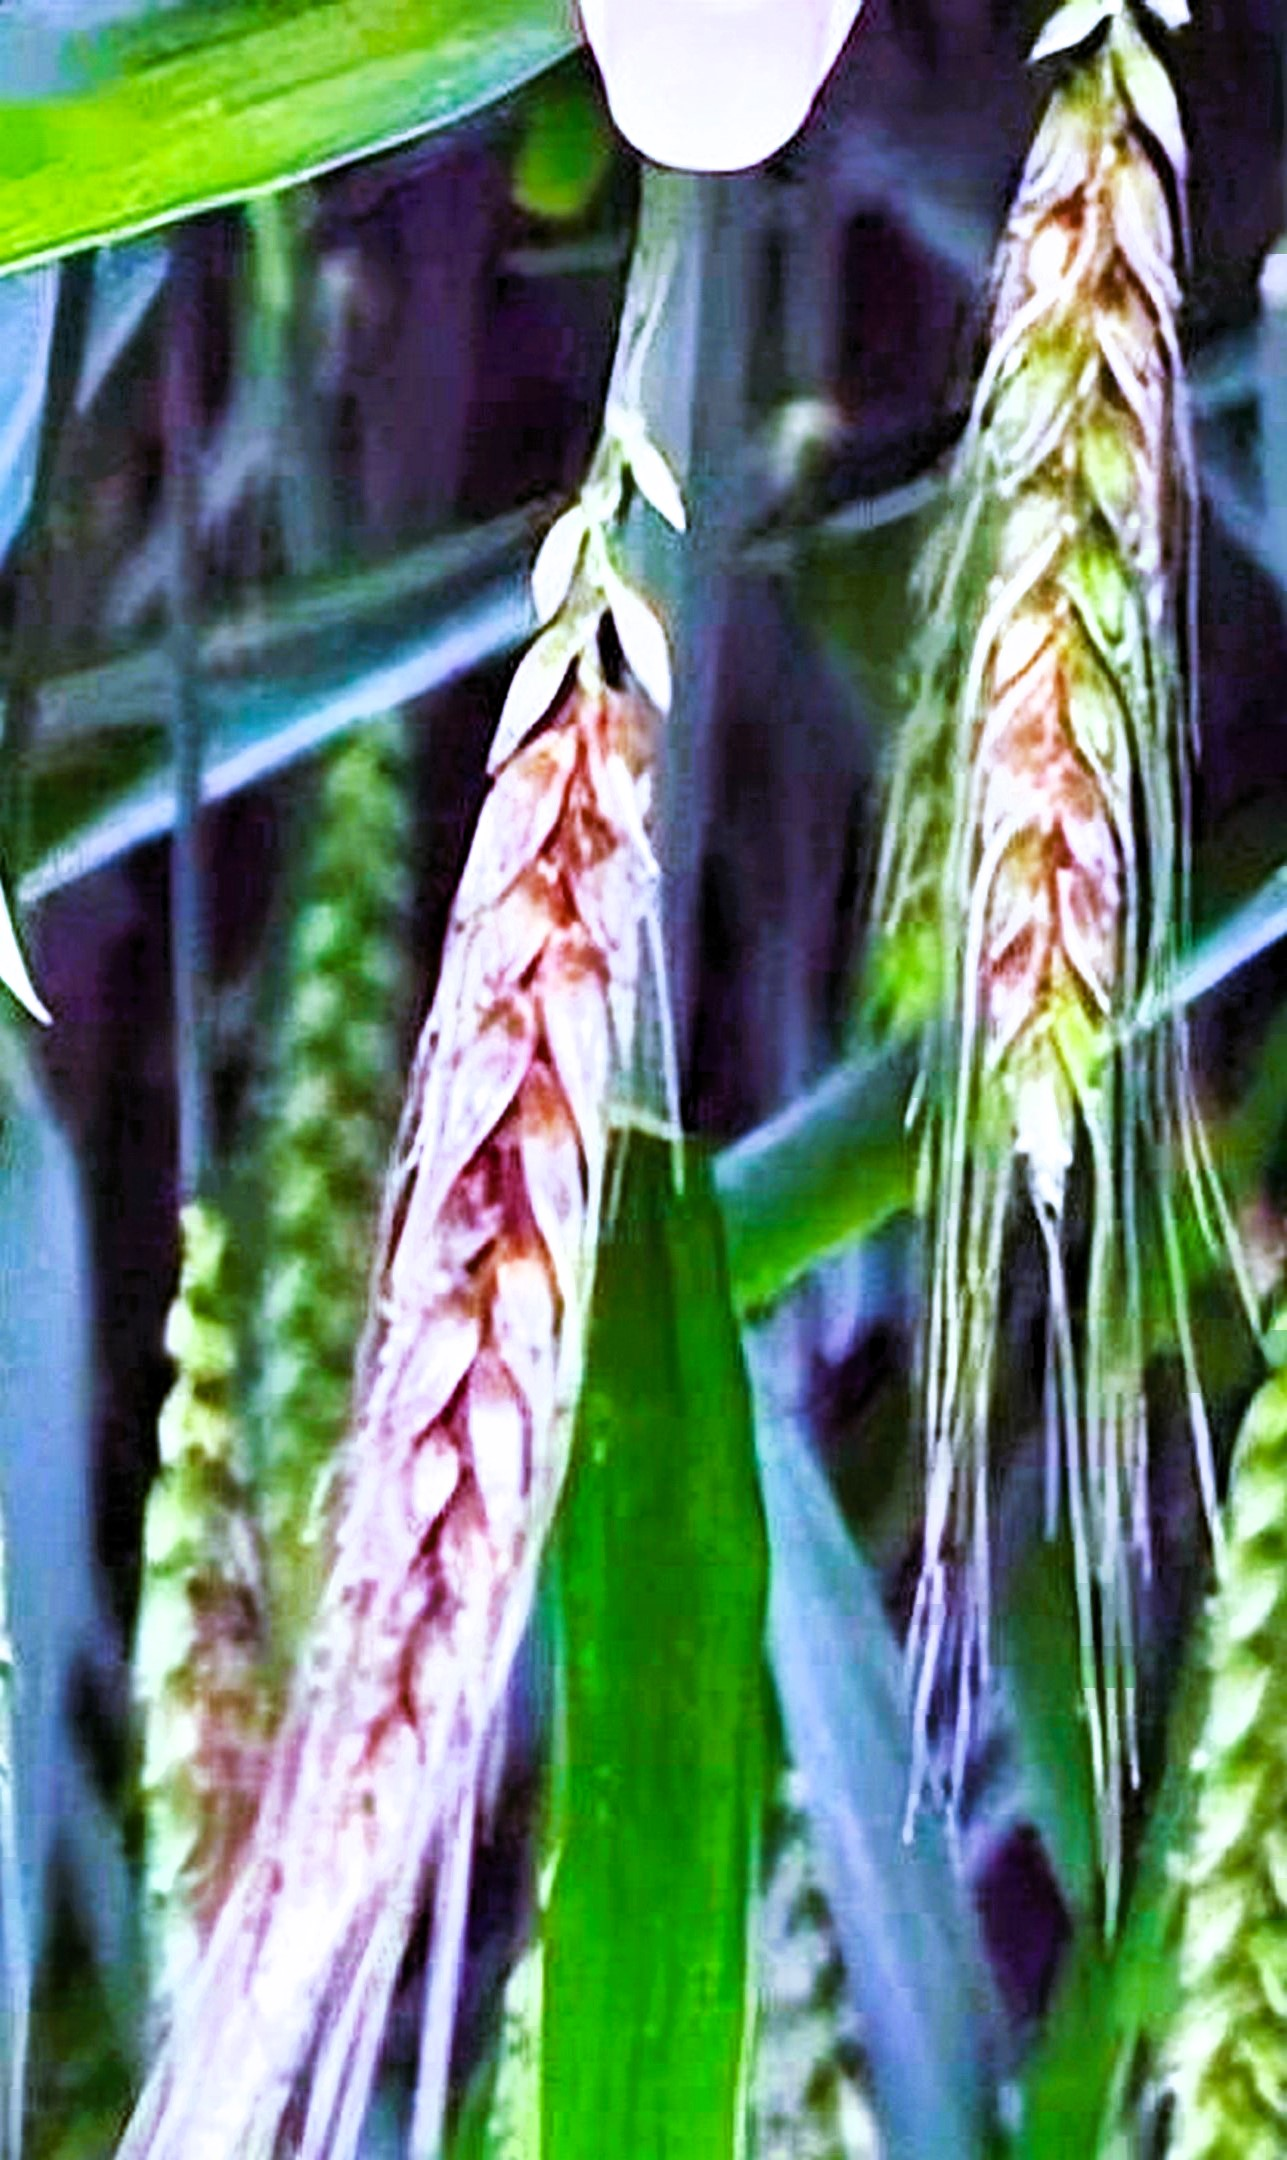Wheat scab: (921, 74, 1204, 1222)
